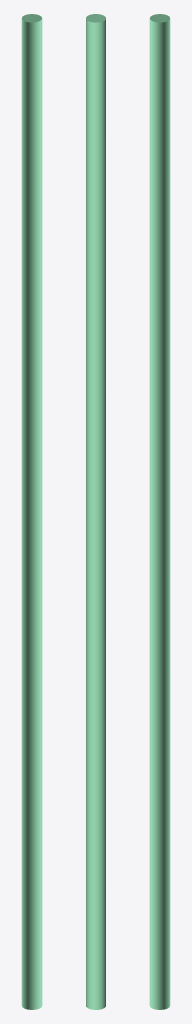
The model's file is new_cylinder_april_13.obj.
The picture shows the model from 3 angles, left to right: view 1: azimuth 90°, elevation 25°; view 2: azimuth 150°, elevation 25°; view 3: azimuth 270°, elevation 25°; orthographic projection.
Parts seen in each view (by area): view 1: Cylinder001; view 2: Cylinder001; view 3: Cylinder001.
Part boxes in pixels (box(x1,y1,x2,y2)): Cylinder001: box(21, 14, 42, 1009); Cylinder001: box(86, 14, 105, 1009); Cylinder001: box(149, 14, 170, 1009).
Bounding box in the file's own units: 0.334 × 17.8 × 0.334.
